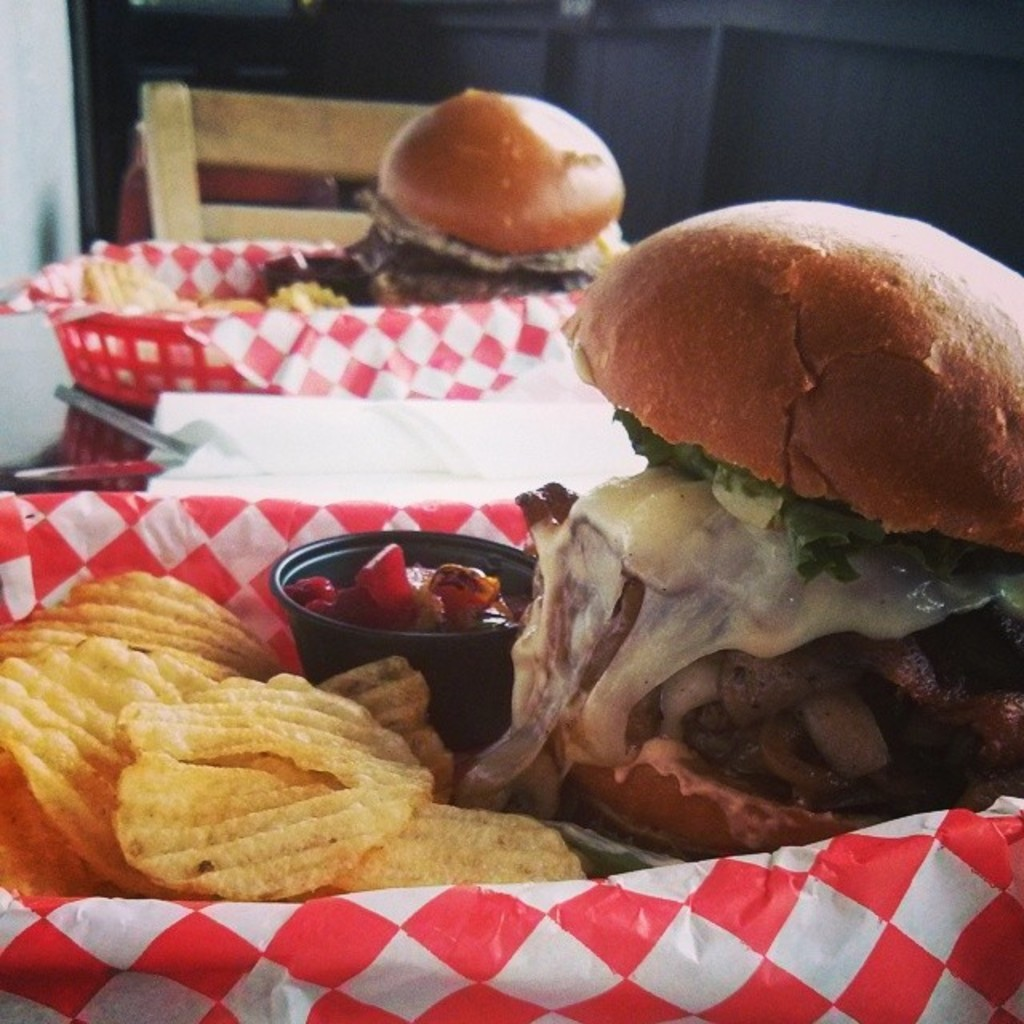Hamburger: (459, 199, 1022, 859), (344, 86, 632, 310)
